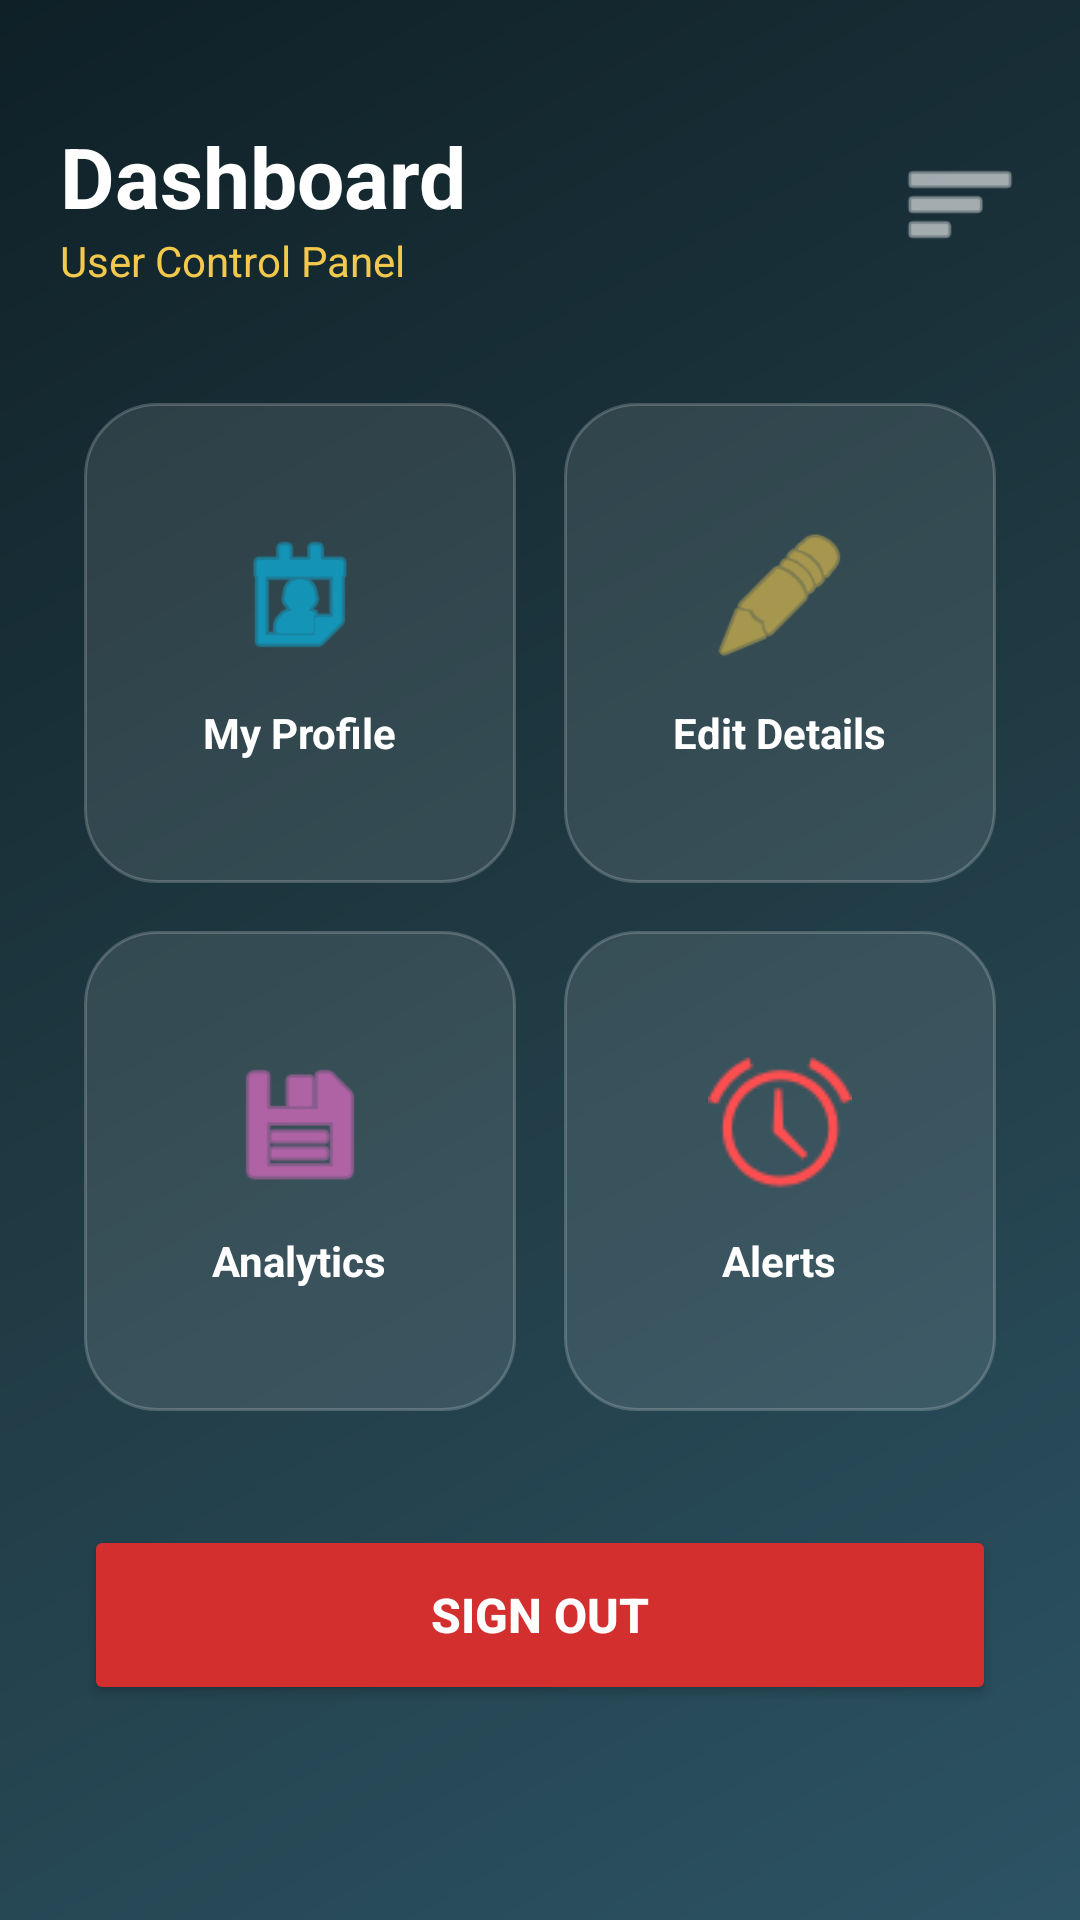

Point at icon controls on the screen. Image size 1080×1920, points as (x=x, y=y).
calendar: (x=300, y=594)
lock idle alarm: (x=780, y=1122)
save: (x=300, y=1125)
sort by size: (x=960, y=204)
